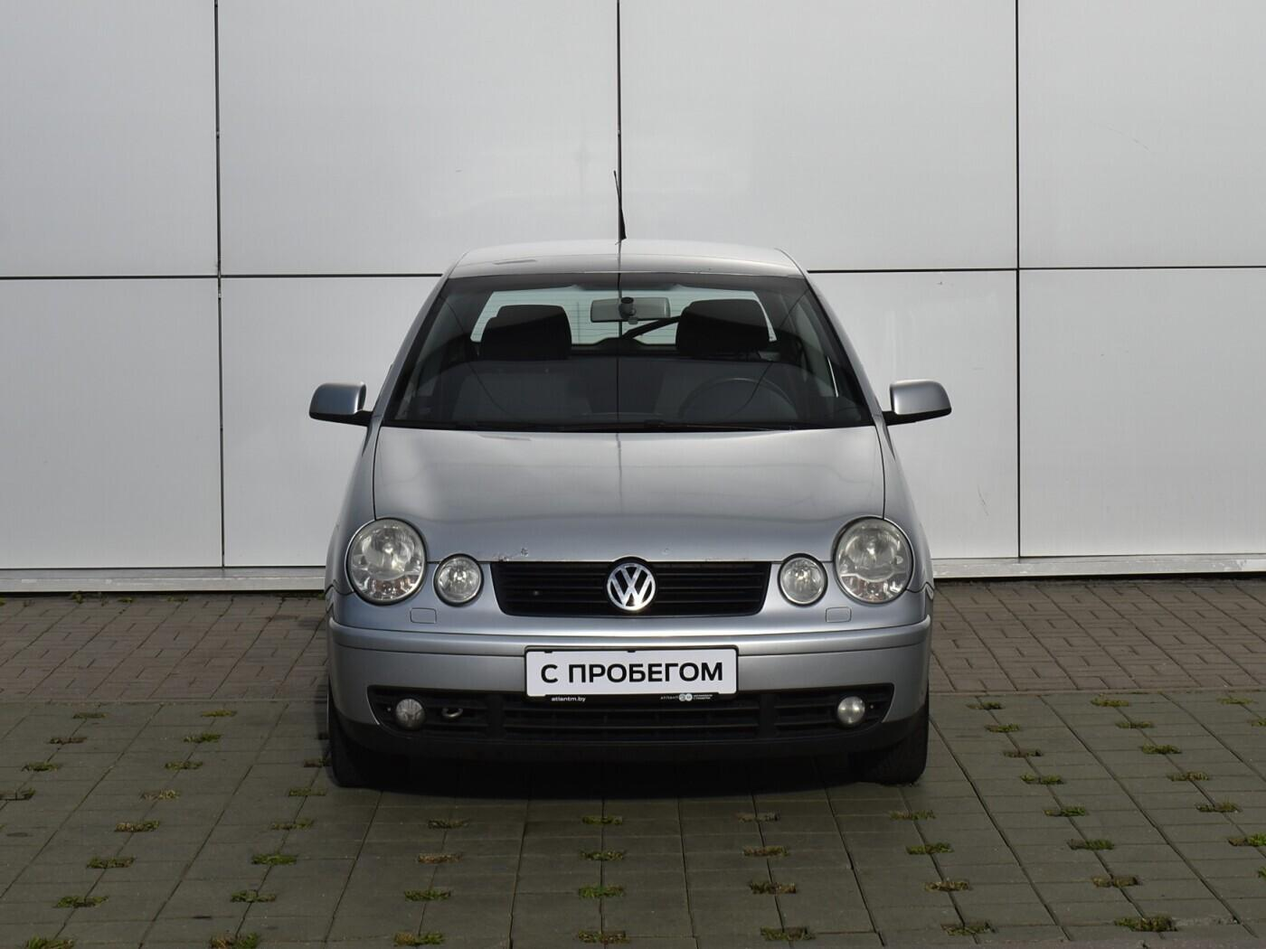Polo_2001-2005: (309, 237, 974, 821)
